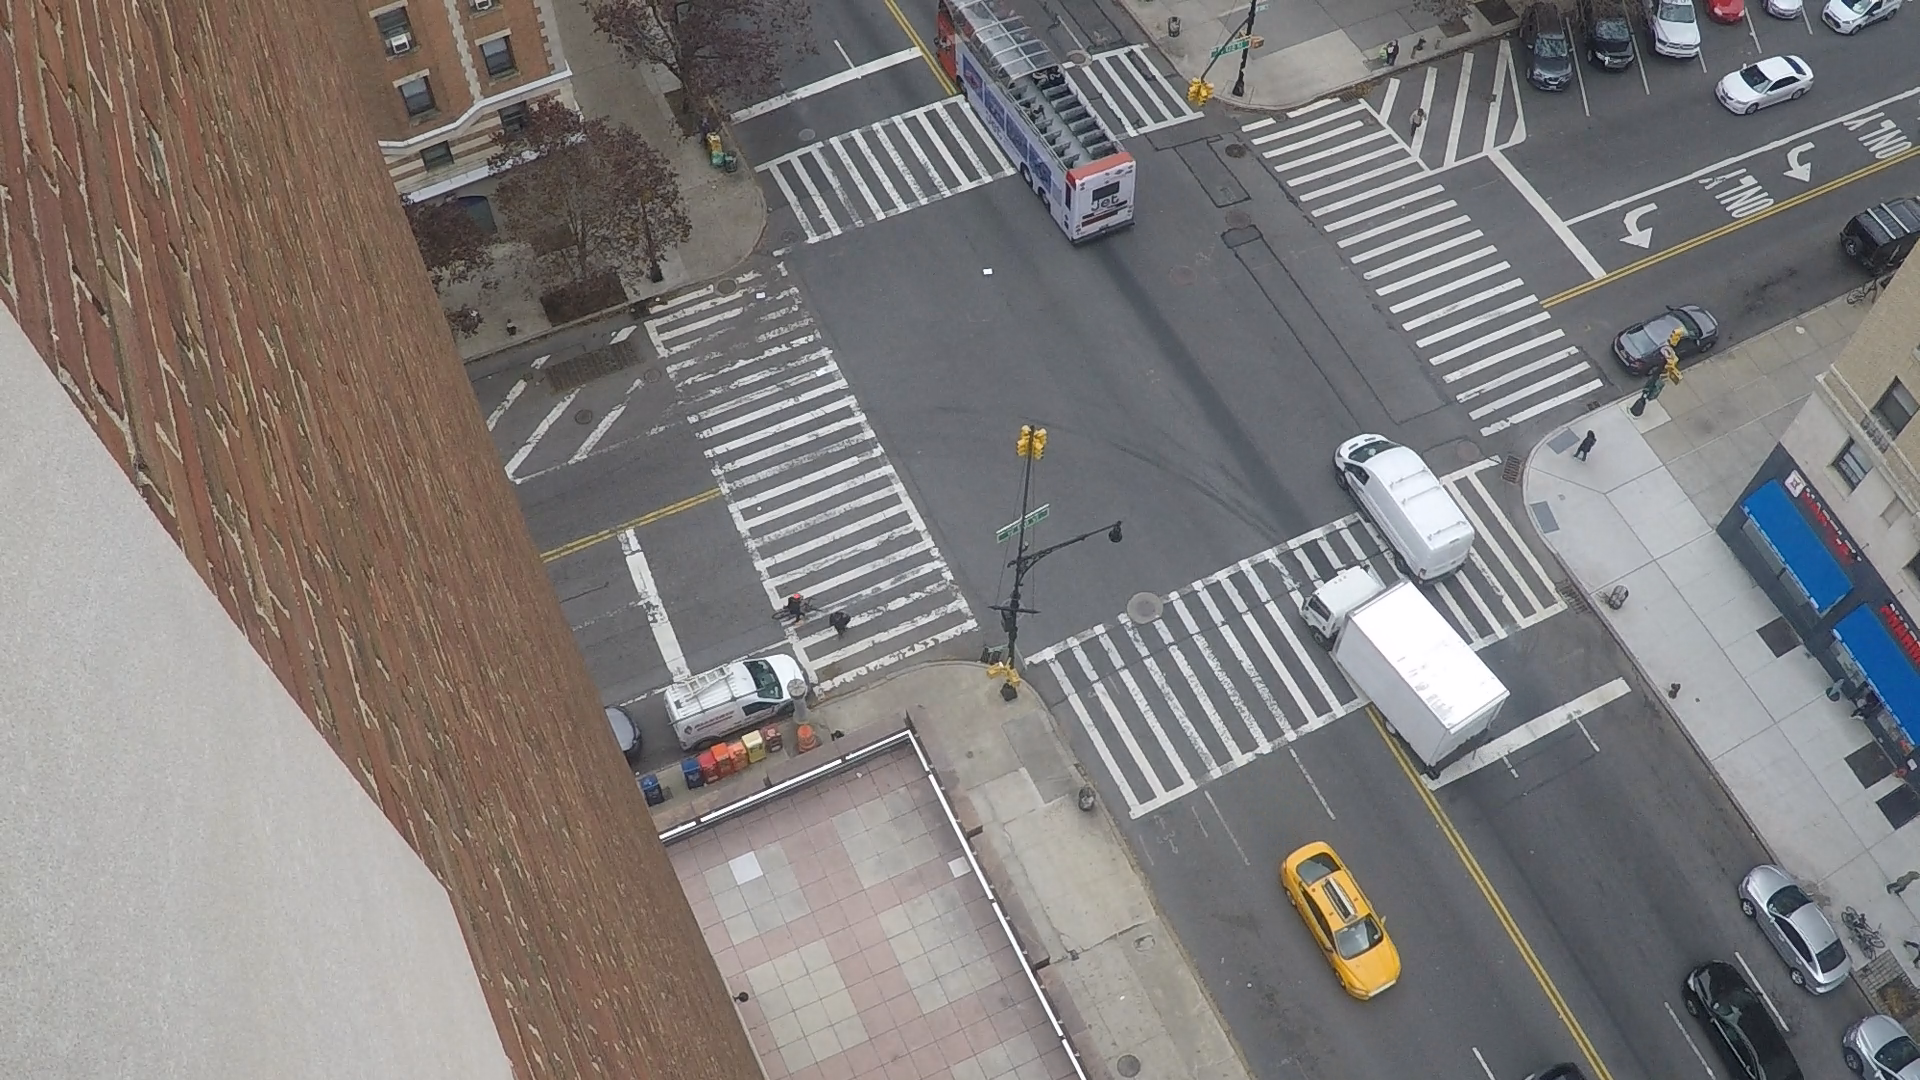Bus: (938, 59, 963, 92)
Car: (1635, 0, 1636, 18), (1760, 0, 1762, 8)
